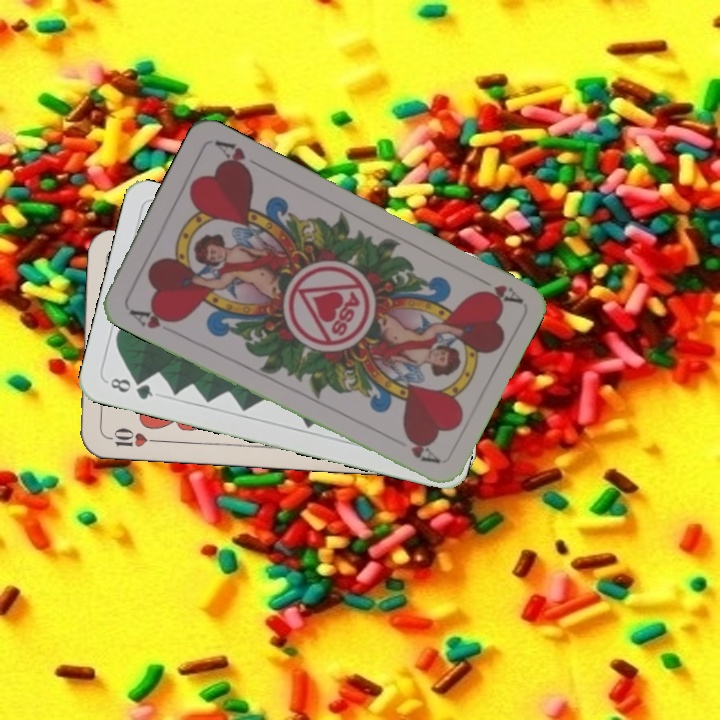G8: (106, 374, 156, 403)
H10: (101, 424, 160, 450)
HA: (468, 270, 523, 308), (124, 304, 180, 332)
